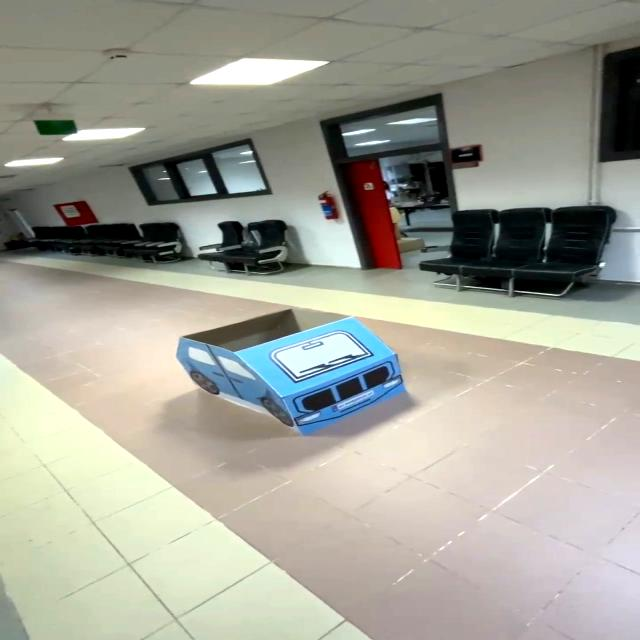blue_car: (150, 294, 420, 443)
